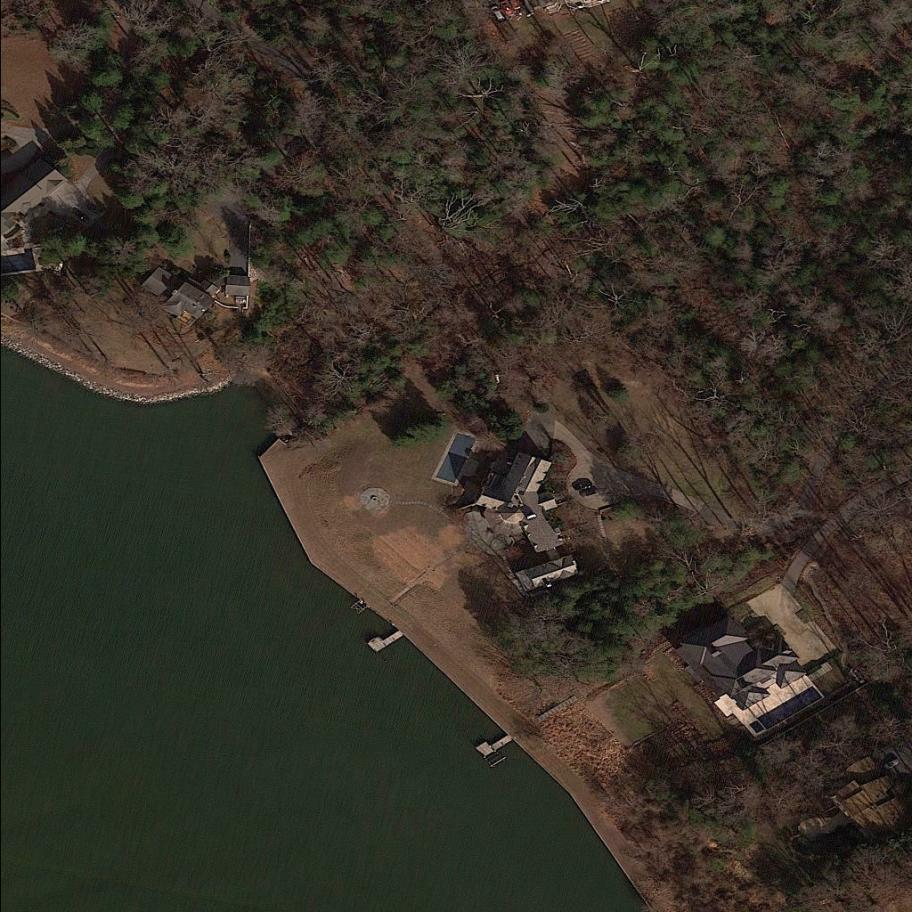small-vehicle: (69, 207, 93, 229), (86, 200, 109, 222), (570, 477, 596, 492), (490, 4, 506, 24), (882, 757, 900, 773), (501, 0, 515, 19), (580, 488, 598, 499), (524, 512, 539, 523), (493, 374, 501, 386)
